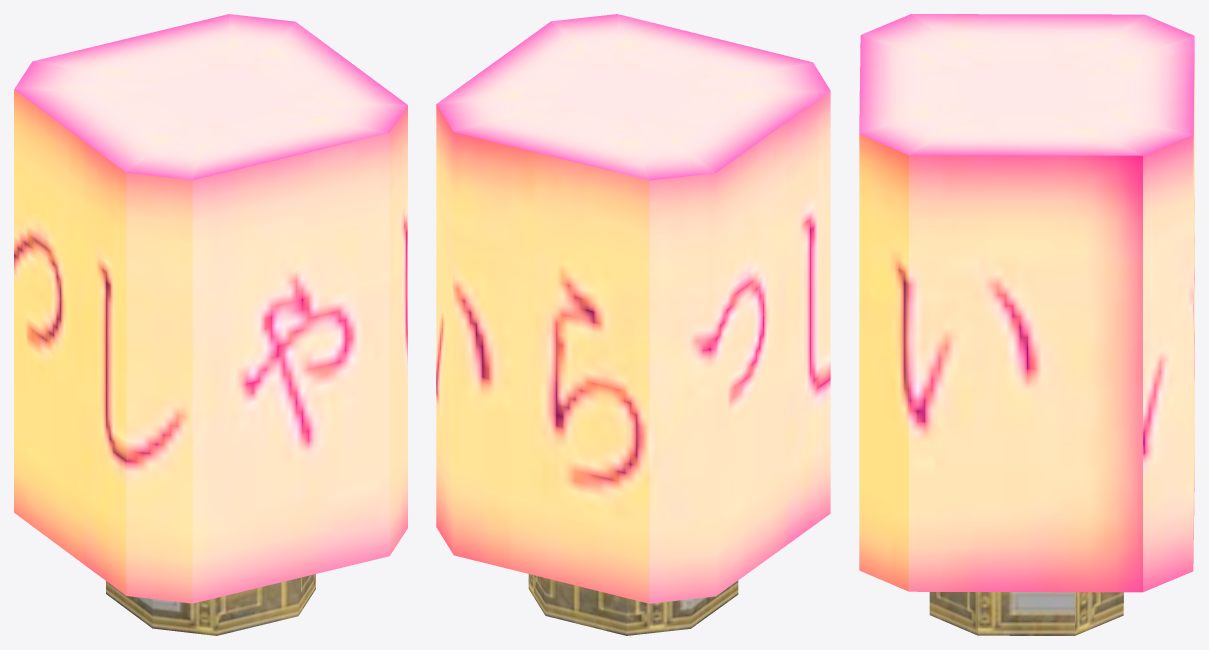
File: japanese-sign-03.glb
3 views of the same model, side by side, from view 1: azimuth 30°, elevation 25°; view 2: azimuth 150°, elevation 25°; view 3: azimuth 270°, elevation 25° (orthographic). The views are drawn at different scales.
Visible parts, largest first — view 1: Japanese_Sign_03; view 2: Japanese_Sign_03; view 3: Japanese_Sign_03.
Boxes of the visible parts, left/top/right/bottom form: Japanese_Sign_03: left=14, top=14, right=407, bottom=635; Japanese_Sign_03: left=436, top=14, right=830, bottom=635; Japanese_Sign_03: left=859, top=14, right=1194, bottom=635.
Size of the model in its own units: 0.2842 by 0.4766 by 0.2842.
2 materials, 1 textured.
